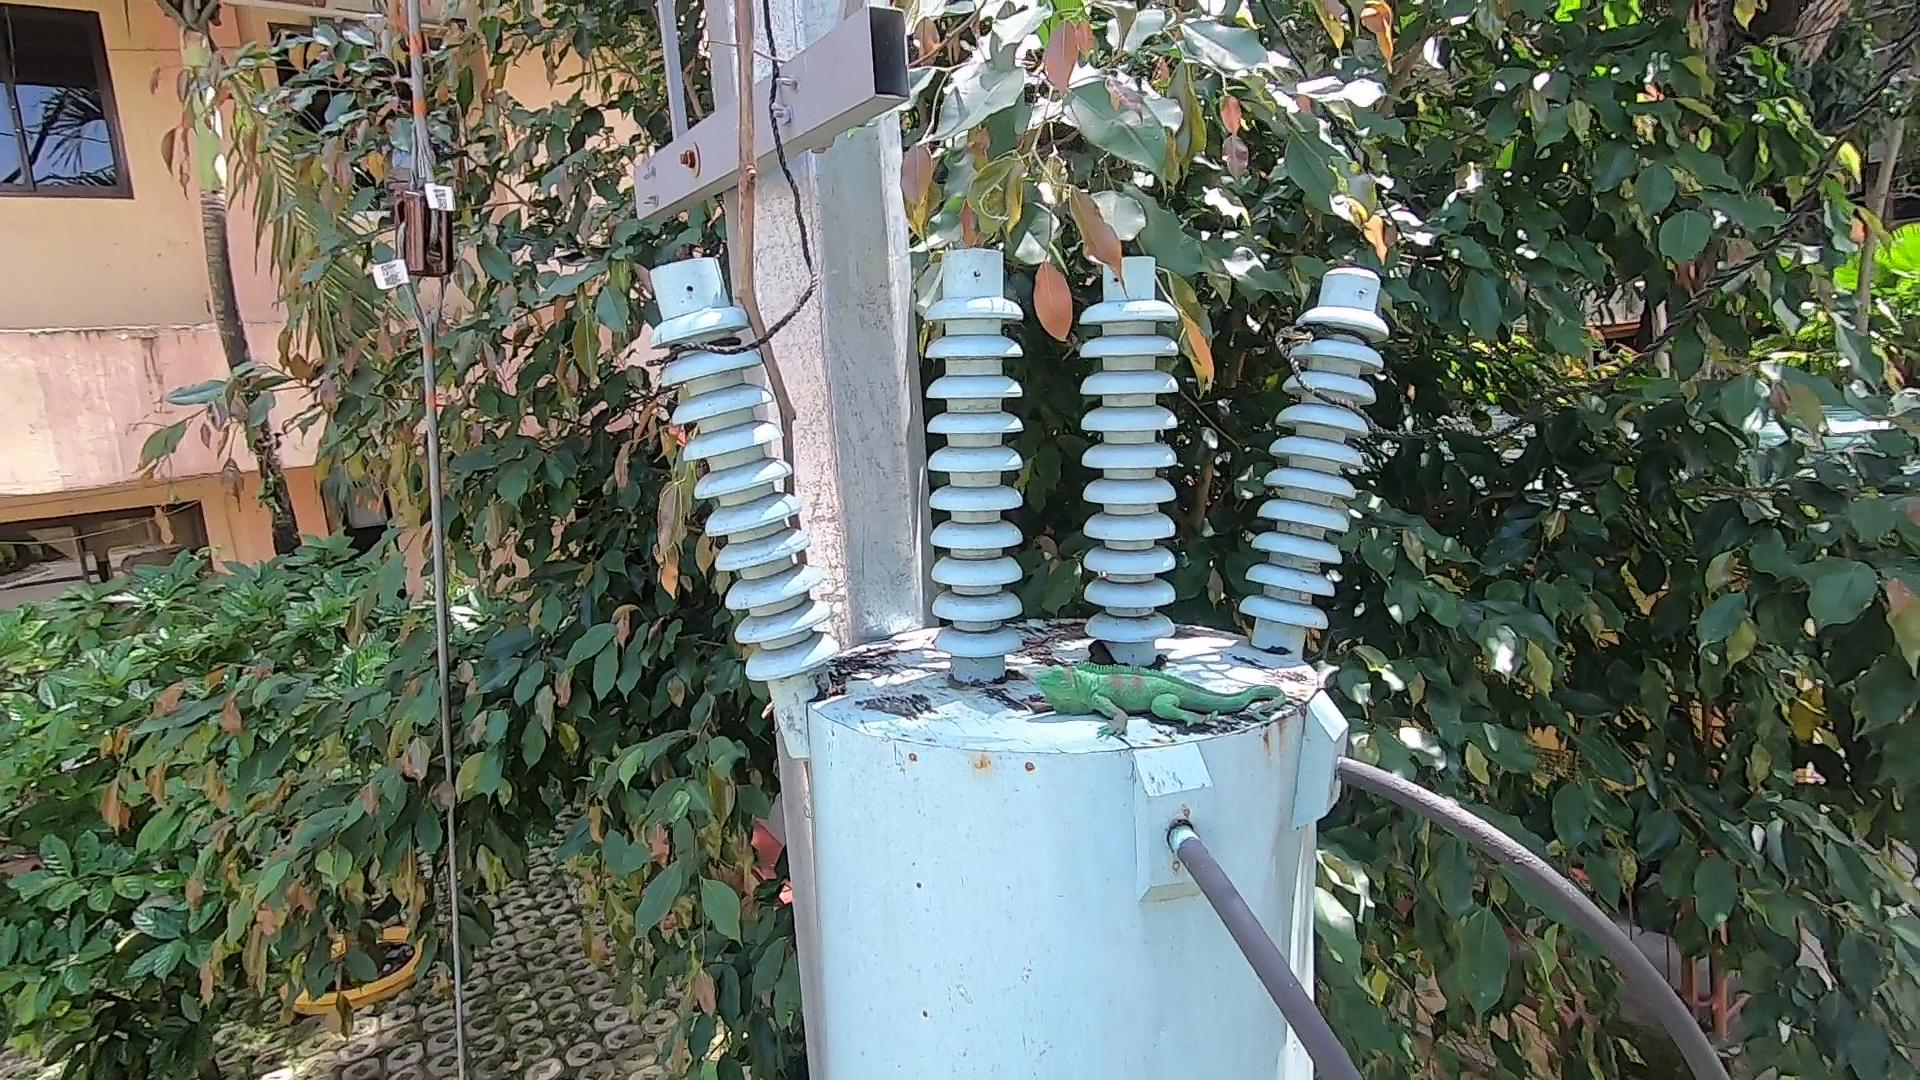branch with leaves: (1007, 182, 1251, 423)
leaf: (1077, 630, 1124, 669), (815, 669, 856, 709)
tree branch: (690, 3, 852, 732)
